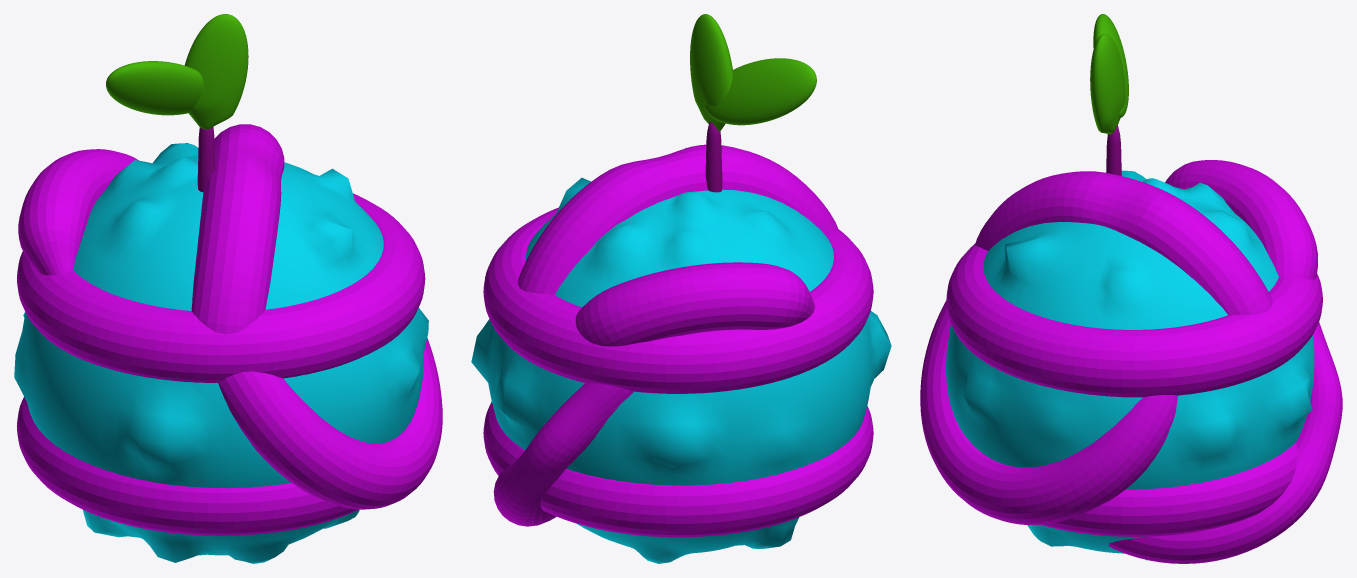
File: fruta2.fbx
The picture shows the model from 3 angles, left to right: view 1: azimuth 30°, elevation 25°; view 2: azimuth 150°, elevation 25°; view 3: azimuth 270°, elevation 25°; orthographic projection. The views are drawn at different scales.
Visible parts, largest first — view 1: Sphere, Torus, Torus.003, Torus.001, Torus.004, Torus.002, Sphere.002, Sphere.001, Cylinder; view 2: Sphere, Torus, Torus.001, Torus.004, Torus.002, Torus.006, Sphere.001, Sphere.002, Cylinder; view 3: Sphere, Torus, Torus.003, Torus.004, Torus.006, Torus.001, Torus.002, Sphere.002, Sphere.001, Cylinder.
Part boxes in pixels (x1,y1,x2,y2): Sphere: [14, 143, 428, 563]; Torus: [17, 193, 425, 382]; Torus.003: [218, 338, 442, 509]; Torus.001: [17, 397, 358, 535]; Torus.004: [191, 124, 284, 334]; Torus.002: [18, 149, 138, 275]; Sphere.002: [184, 14, 248, 129]; Sphere.001: [106, 61, 203, 115]; Cylinder: [197, 127, 214, 192]; Sphere: [471, 147, 891, 563]; Torus: [483, 207, 873, 393]; Torus.001: [483, 401, 873, 537]; Torus.004: [518, 144, 838, 294]; Torus.002: [575, 262, 814, 346]; Torus.006: [493, 383, 633, 526]; Sphere.001: [704, 58, 816, 125]; Sphere.002: [690, 14, 733, 131]; Cylinder: [705, 122, 722, 192]; Sphere: [946, 170, 1314, 560]; Torus: [946, 243, 1322, 397]; Torus.003: [920, 301, 1177, 524]; Torus.004: [975, 171, 1272, 315]; Torus.006: [1108, 322, 1342, 563]; Torus.001: [1040, 443, 1297, 536]; Torus.002: [1165, 160, 1317, 279]; Sphere.002: [1090, 34, 1125, 134]; Sphere.001: [1093, 14, 1128, 117]; Cylinder: [1106, 125, 1121, 175].
Bounding box in the file's own units: 210 × 299 × 227.
